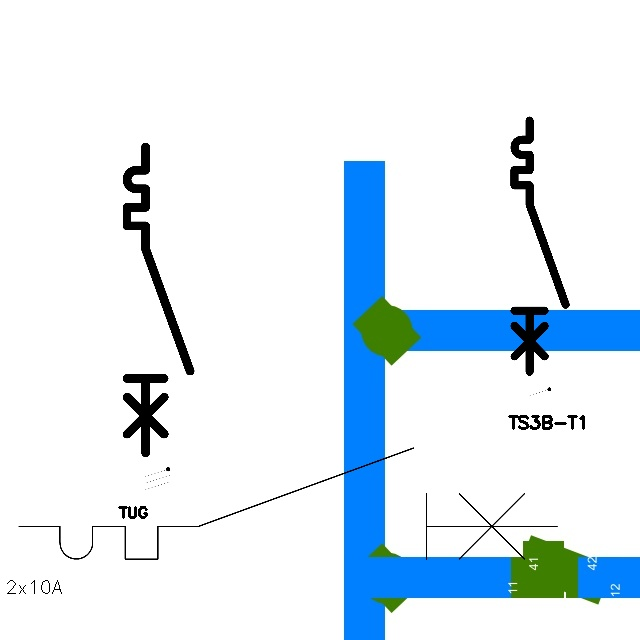interruptor_termomagnetico: (5, 434, 571, 573), (119, 139, 197, 461), (508, 114, 572, 378)
